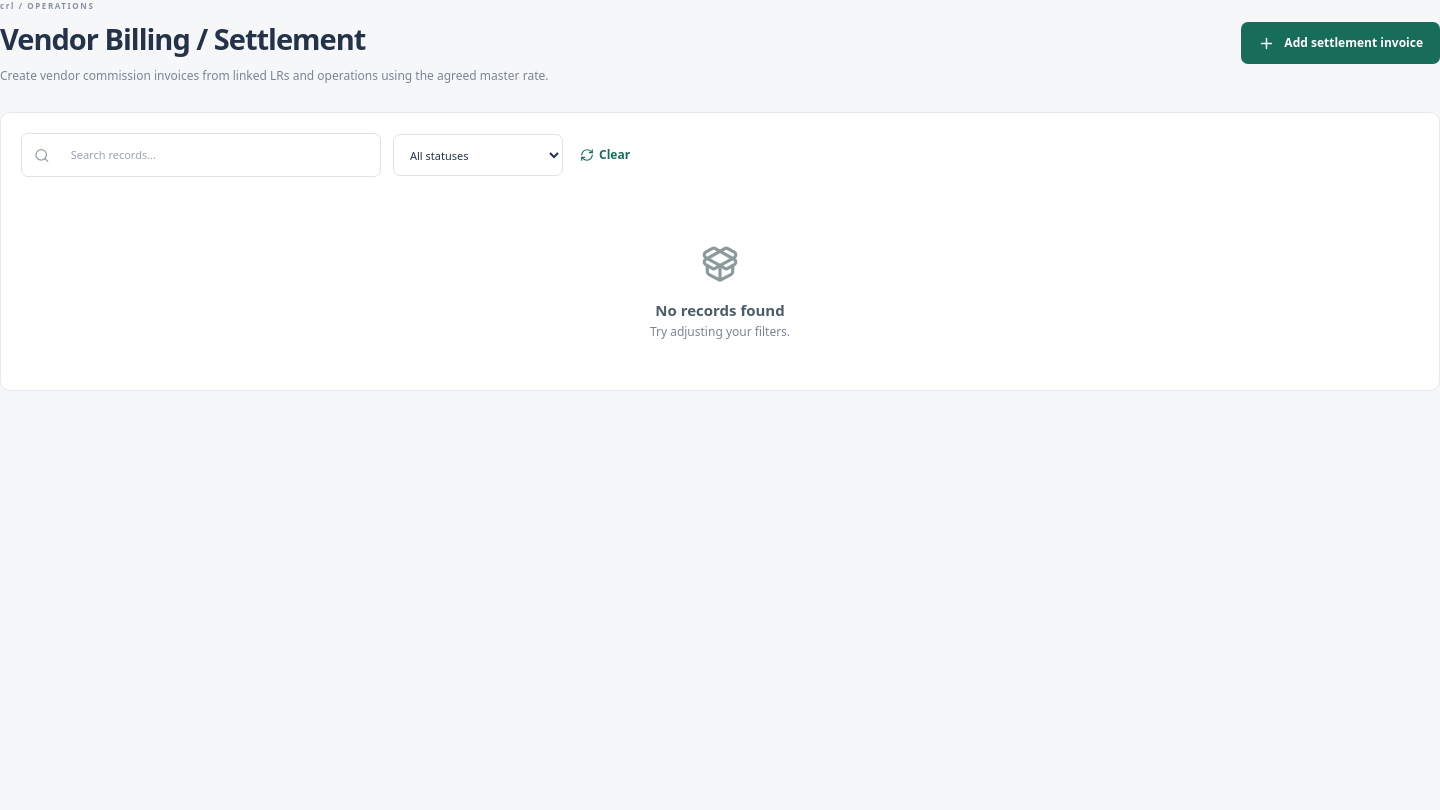
Test: Vendor commission settlement › fetches vendor work by selected code and shows master rate breakdown
The width and height of the screenshot is (1440, 810).
Click the button "Add settlement invoice". click: (1341, 43)
box: [1241,22,1439,64]
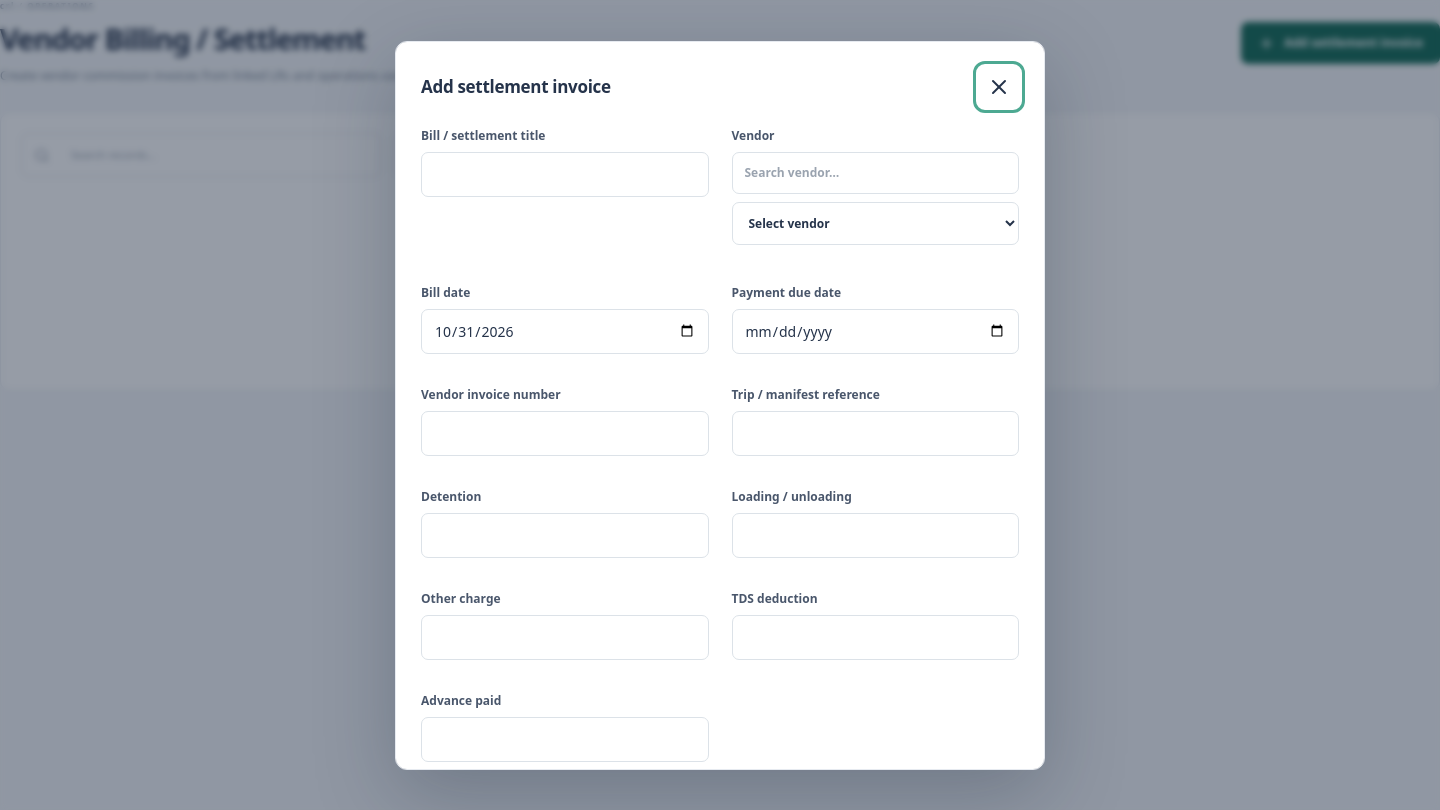
Select "V001 · Road Vendor" in the dropdown named "Vendor". click: (875, 223)
box: [732,202,1019,244]
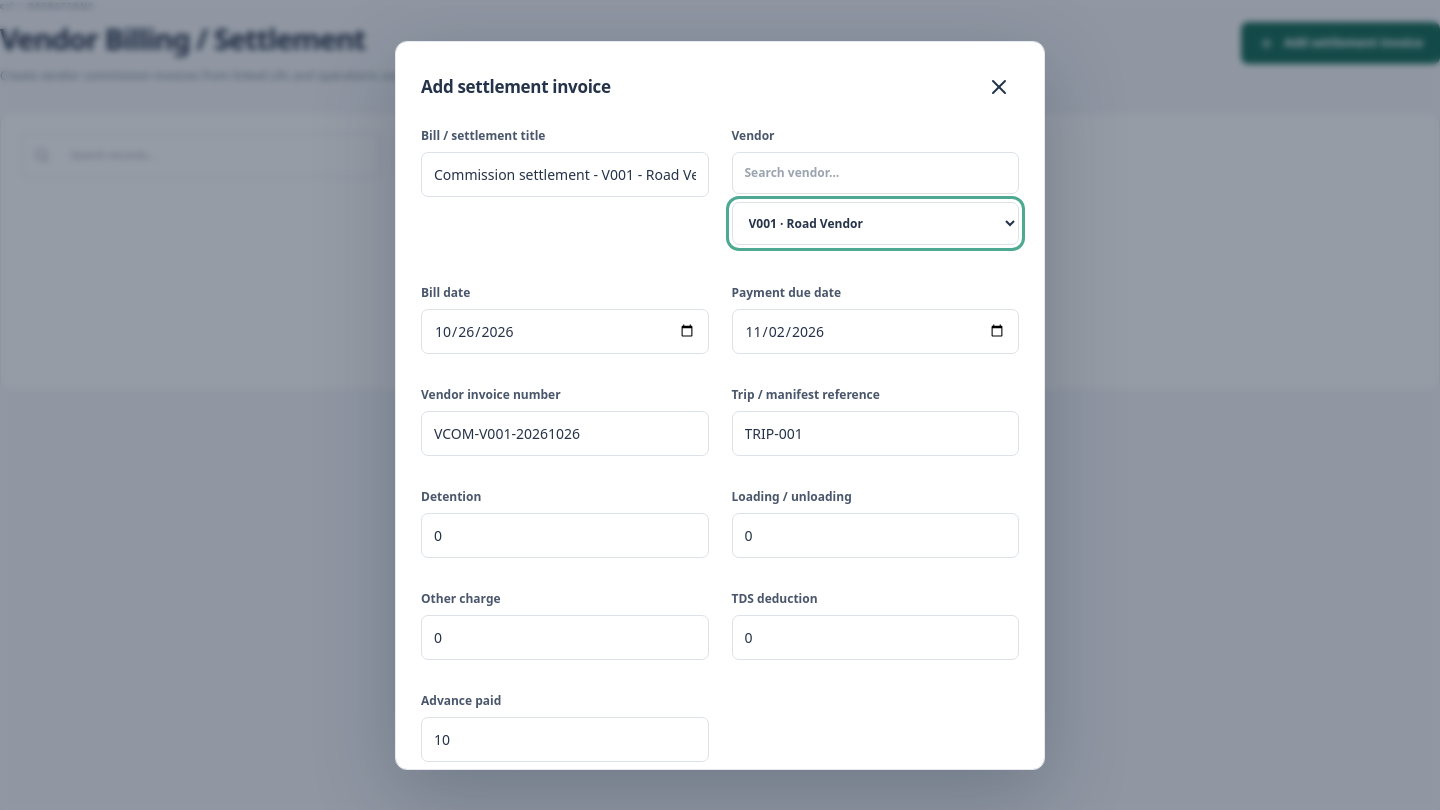
Check: the field labelled "Bill / settlement title" holds "Commission settlement - V001 - Road Vendor"
Check: the field labelled "Vendor invoice number" holds "VCOM-V001-20261026", box [421,410,708,456]
Check: the field labelled "Trip / manifest reference" holds "TRIP-001", box [732,410,1019,456]
Replace the text in the field labelled "Bill / settlement title" with "Edited settlement". click: (565, 174)
box: [421,152,708,196]
(page scrolled)
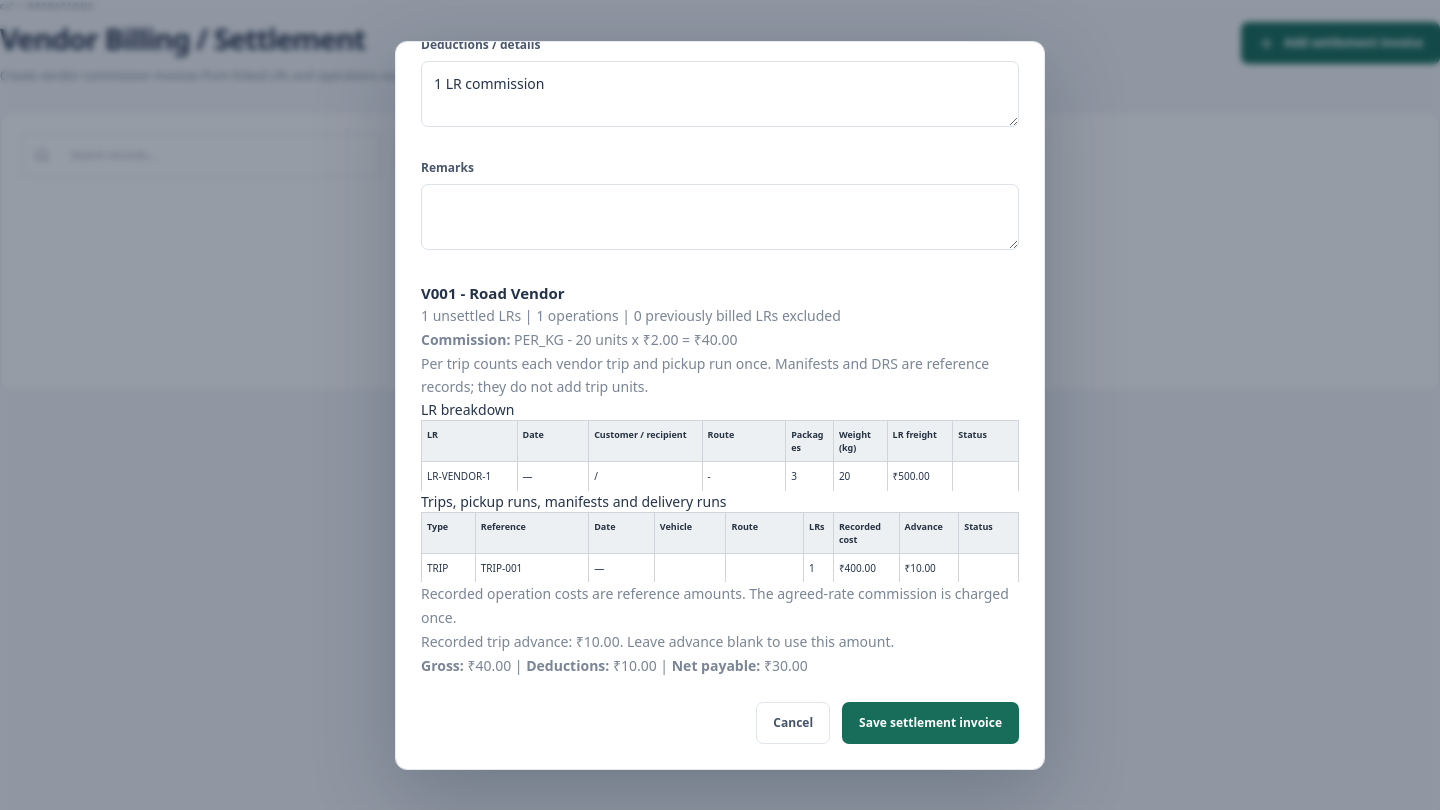
Check: the text "Commission: PER_KG - 20 units x ₹2.00 = ₹40.00" is shown, box [421,330,738,349]
Check: the element showing "Gross: ₹40.00 | Deductions: ₹10.00 | Net payable: ₹30.00" is shown, box [421,656,808,675]
